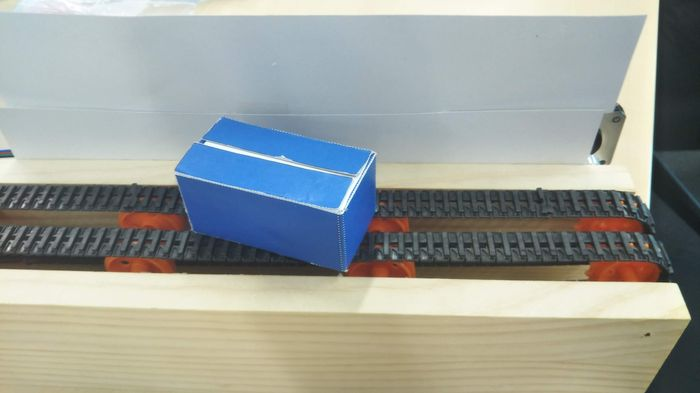box3: (169, 109, 382, 276)
